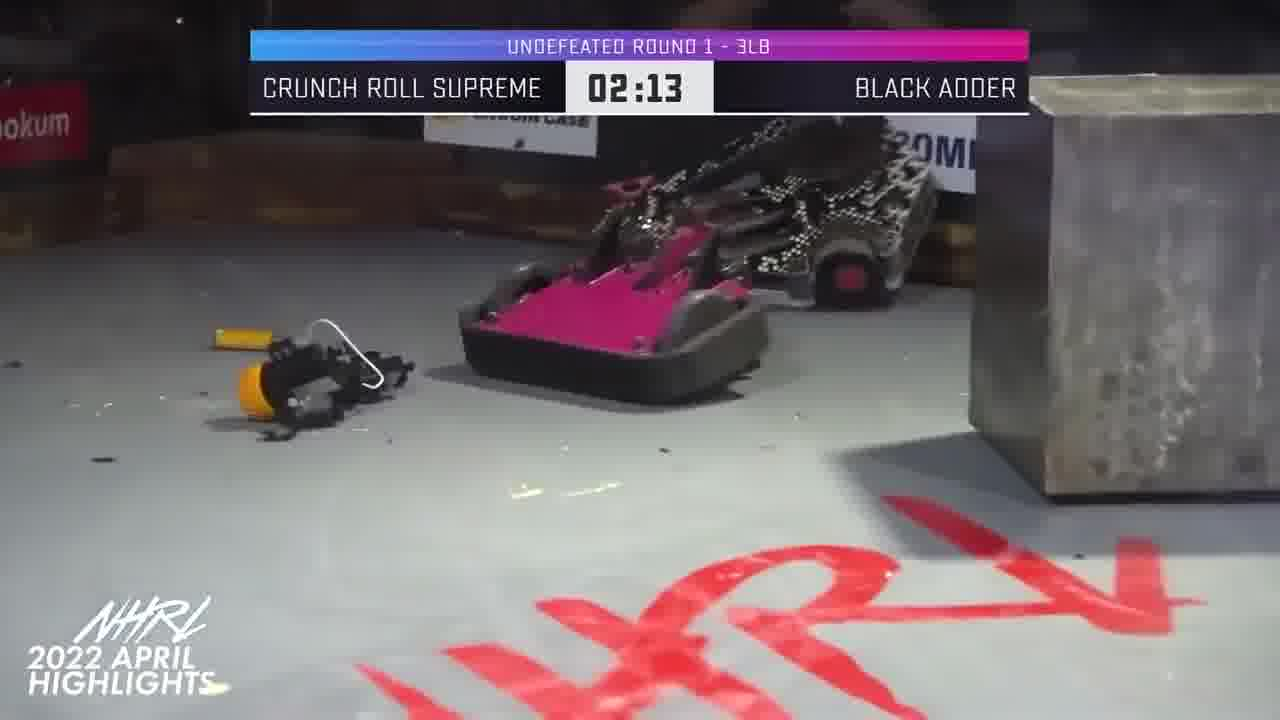combatbot: (595, 115, 936, 309), (457, 257, 768, 408)
debris: (215, 317, 416, 445)
housebot: (966, 77, 1277, 499)
